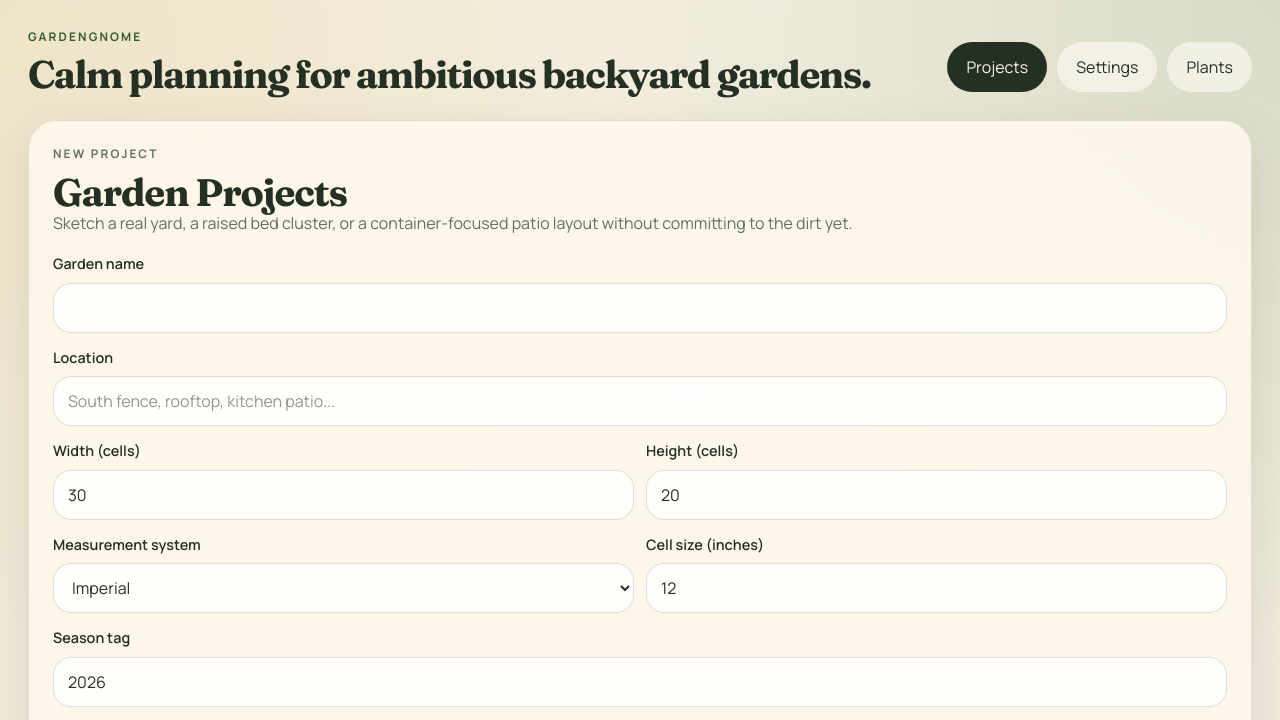
Test: GardenGnome app flow › navigates to the dedicated plant library screen from the app shell
Expected: the heading "Garden Projects" is shown, [53,168,347,216]
Click the link "Plants": (1210, 67) [1167,42,1252,92]
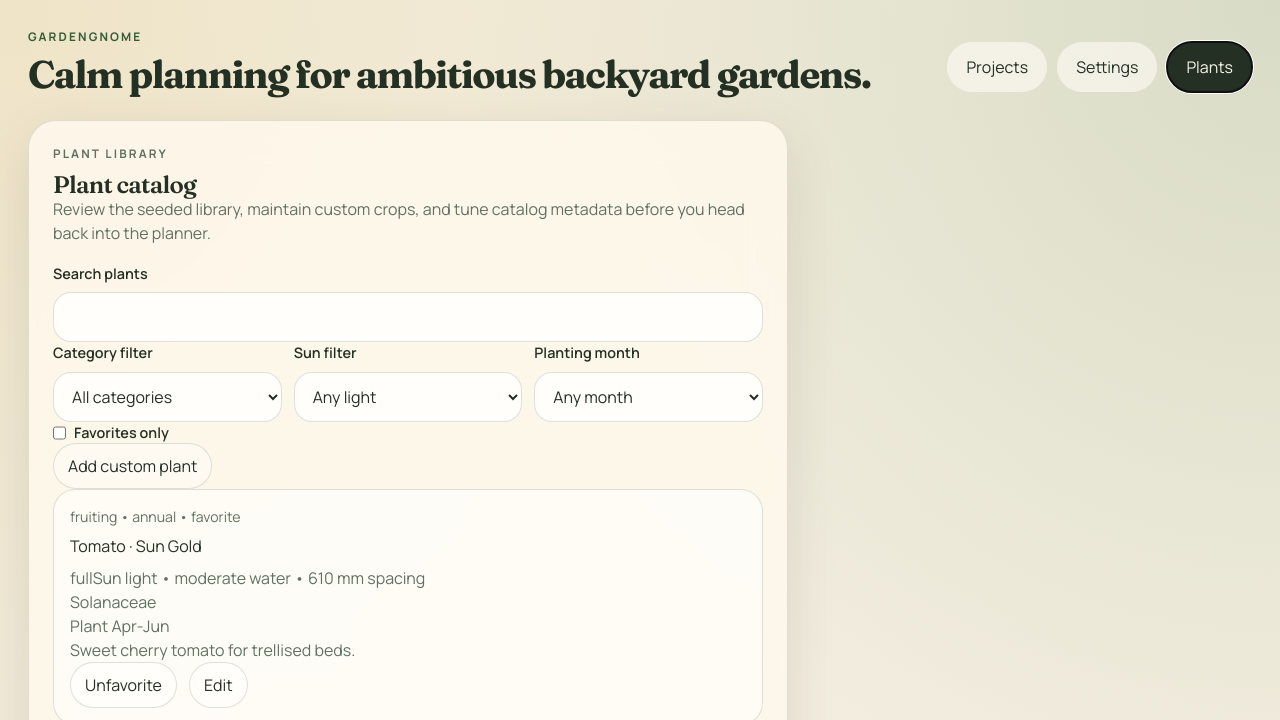
Expected: the heading "Plant catalog" is shown, [53,170,196,199]
Expected: the button "Add custom plant" is shown, [53,444,212,490]
